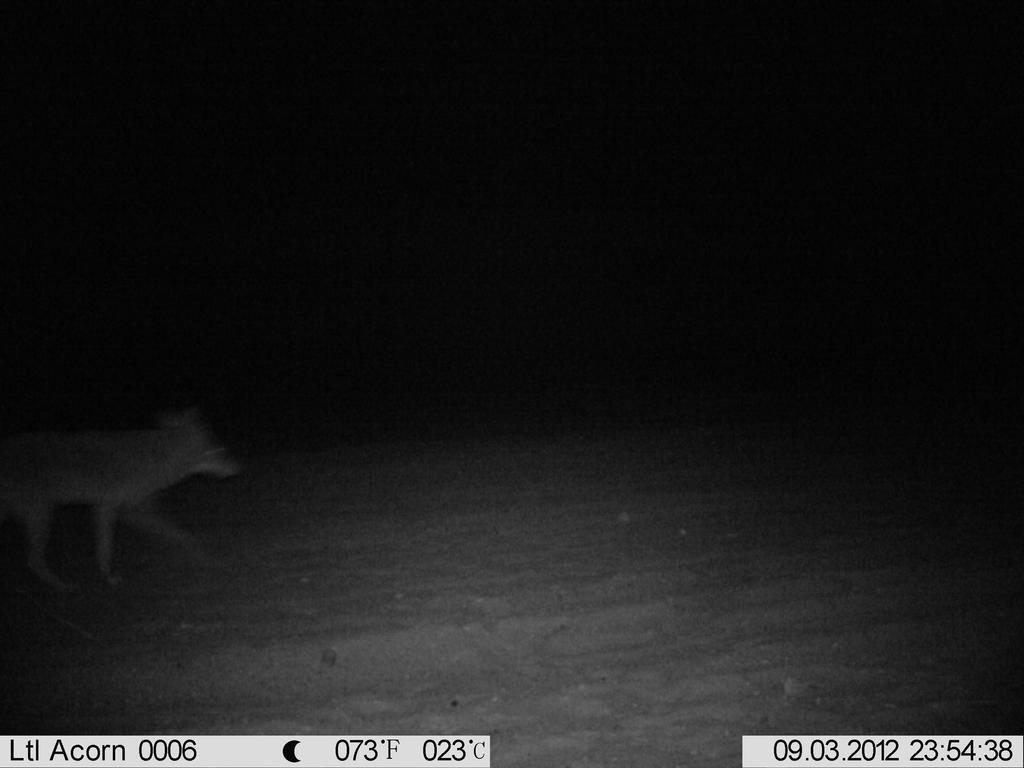coyote: (9, 399, 245, 594)
